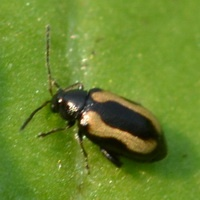insect: (20, 25, 166, 166)
